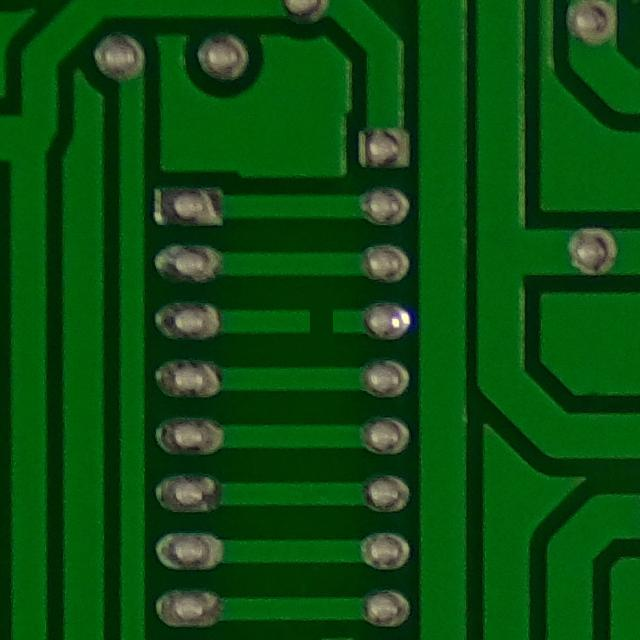open_circuit: (297, 300, 344, 340)
